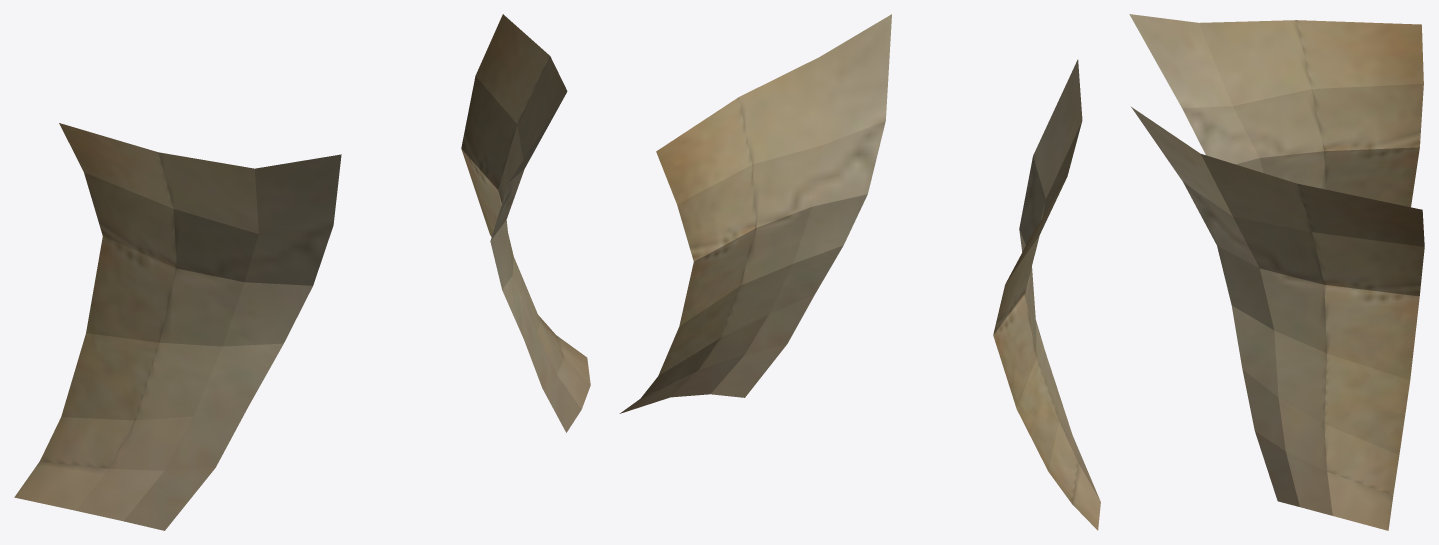
The model's file is 女性_骨骼系统_泪骨.fbx.
3 views of the same model, side by side, from view 1: azimuth 30°, elevation 25°; view 2: azimuth 150°, elevation 25°; view 3: azimuth 270°, elevation 25° (orthographic). The views are drawn at different scales.
Visible parts, largest first — view 1: 女性_骨骼系统_泪骨; view 2: 女性_骨骼系统_泪骨; view 3: 女性_骨骼系统_泪骨.
Part boxes in pixels (x1,y1,x2,y2): 女性_骨骼系统_泪骨: (14, 14, 590, 530); 女性_骨骼系统_泪骨: (619, 14, 1100, 530); 女性_骨骼系统_泪骨: (1129, 14, 1424, 530).
Size of the model in its own units: 3.53 by 2.46 by 1.85.
